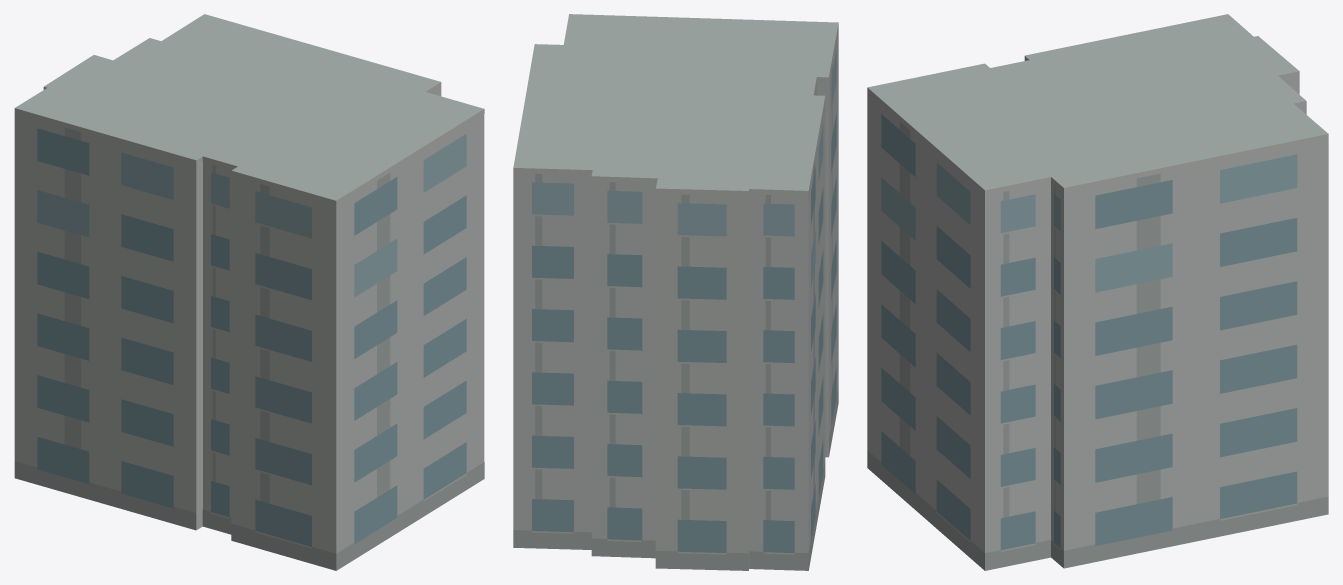
File: survey-upis-32697533.glb
3 renders of one model, left to right at view 1: azimuth 30°, elevation 25°; view 2: azimuth 150°, elevation 25°; view 3: azimuth 270°, elevation 25°, orthographic. The views are drawn at different scales.
Visible parts, largest first — view 1: survey-upis-32697533.tmp; view 2: survey-upis-32697533.tmp; view 3: survey-upis-32697533.tmp.
Part boxes in pixels (<box>): survey-upis-32697533.tmp: <box>14,14,484,570</box>; survey-upis-32697533.tmp: <box>513,14,838,570</box>; survey-upis-32697533.tmp: <box>867,14,1328,570</box>.
Bounding box in the file's own units: 17.31 × 17.4 × 19.13.
